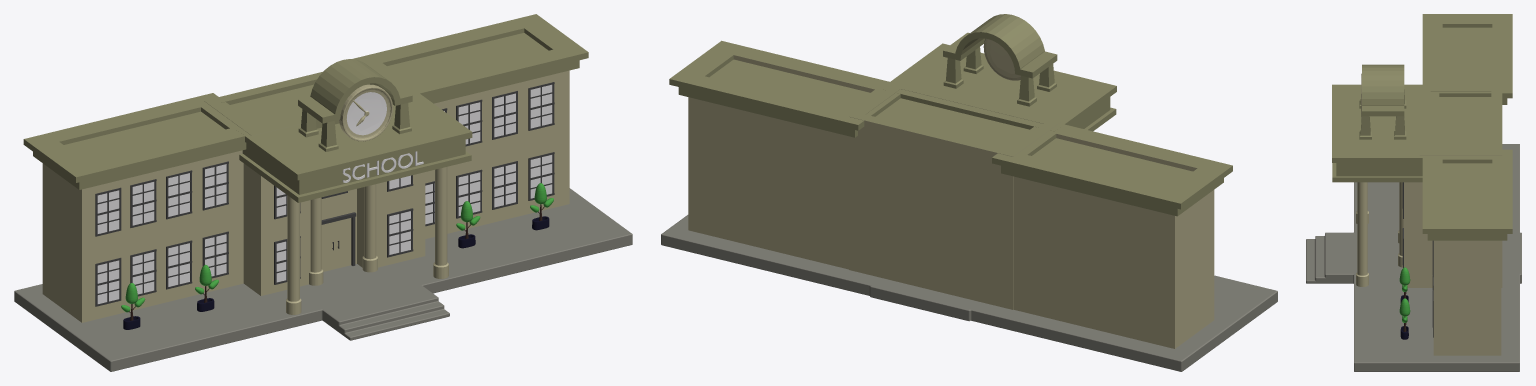
Rendered from School3.glb.
The picture shows the model from 3 angles, left to right: view 1: azimuth 30°, elevation 25°; view 2: azimuth 150°, elevation 25°; view 3: azimuth 270°, elevation 25°; orthographic projection. The views are drawn at different scales.
Parts seen in each view (by area): view 1: 3d66-Editable_Poly-21608961-001; view 2: 3d66-Editable_Poly-21608961-001; view 3: 3d66-Editable_Poly-21608961-001.
Boxes of the visible parts, x1,y1,x2,y2 form: 3d66-Editable_Poly-21608961-001: [14, 14, 632, 371]; 3d66-Editable_Poly-21608961-001: [661, 14, 1277, 371]; 3d66-Editable_Poly-21608961-001: [1306, 14, 1521, 371].
Bounding box in the file's own units: 3.66 × 1.52 × 1.52.
Materials: 1 (1 with a texture image).
